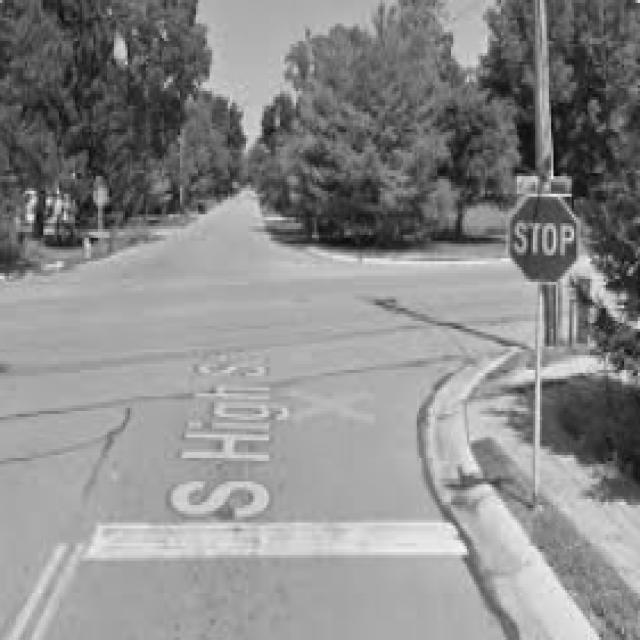Stop-signs: (509, 194, 579, 283)
